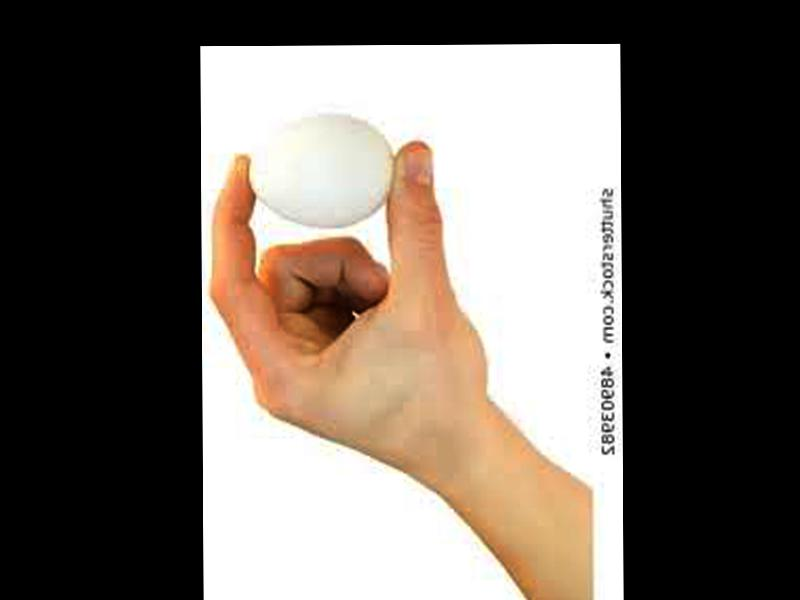Eggs: (249, 116, 396, 229)
